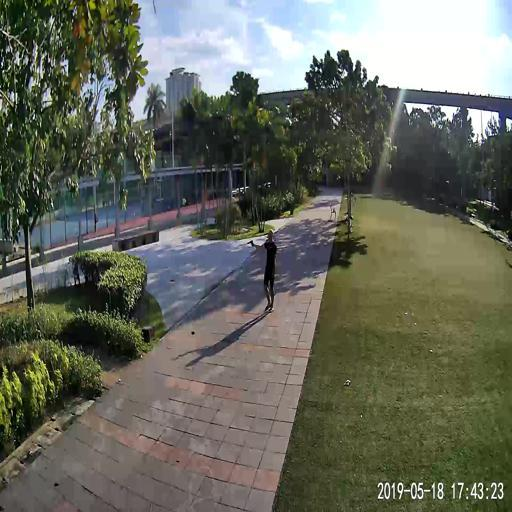Handgun: (245, 238, 252, 247)
